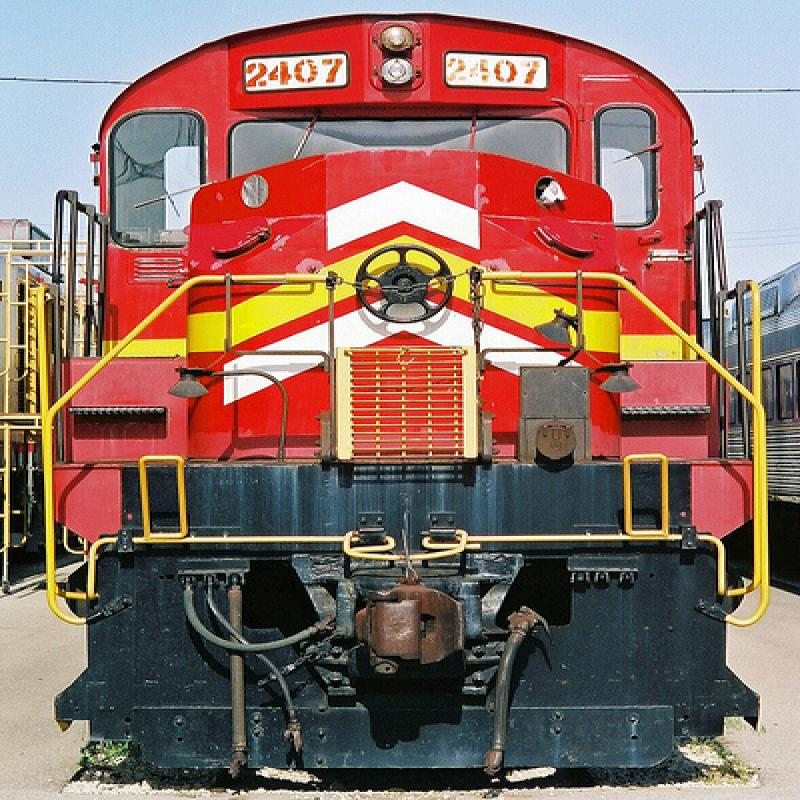train: (19, 14, 773, 782)
